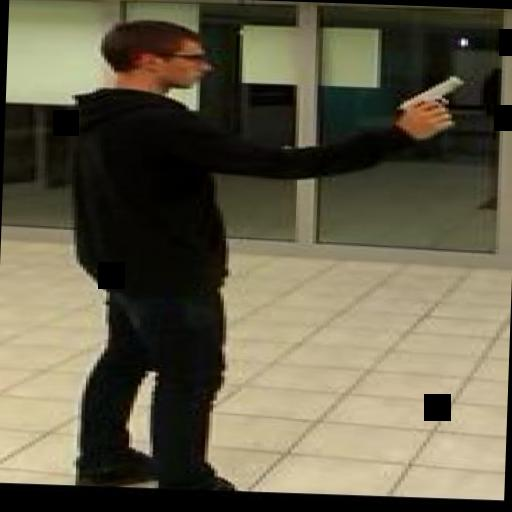Handgun: (385, 68, 470, 126)
